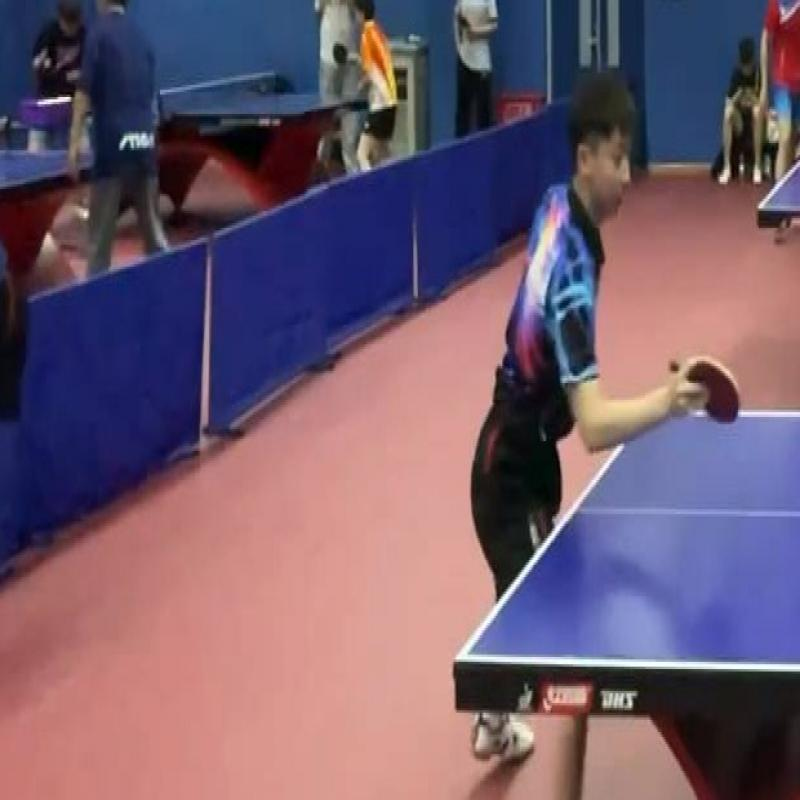bats: (662, 330, 755, 446)
